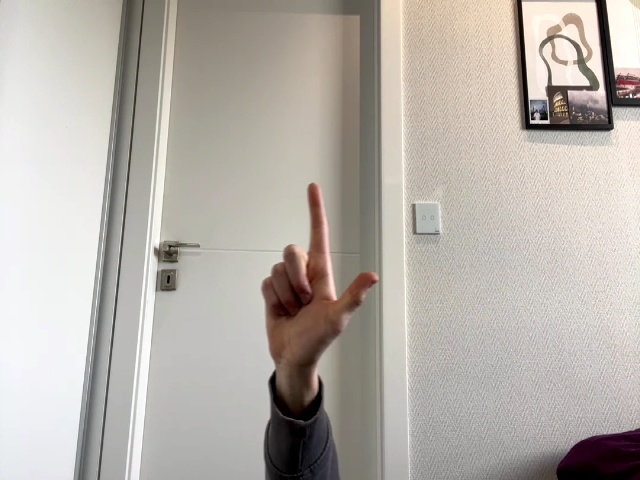L: (262, 183, 379, 370)
